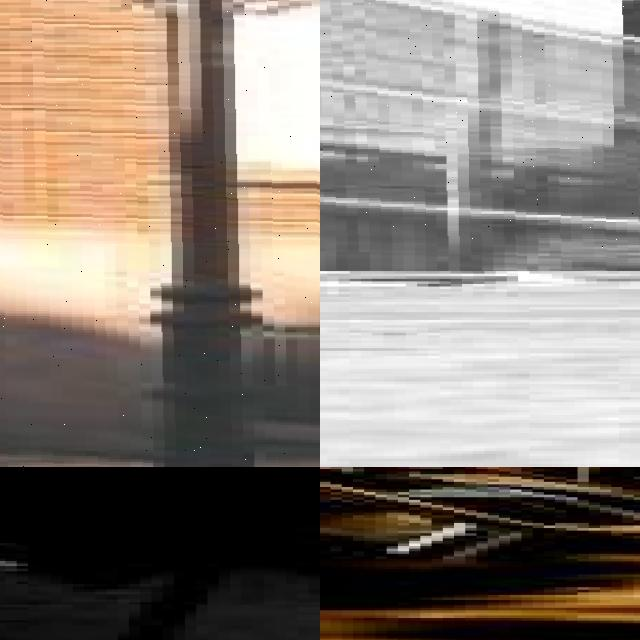street light: (0, 0, 320, 467), (320, 0, 640, 271)
